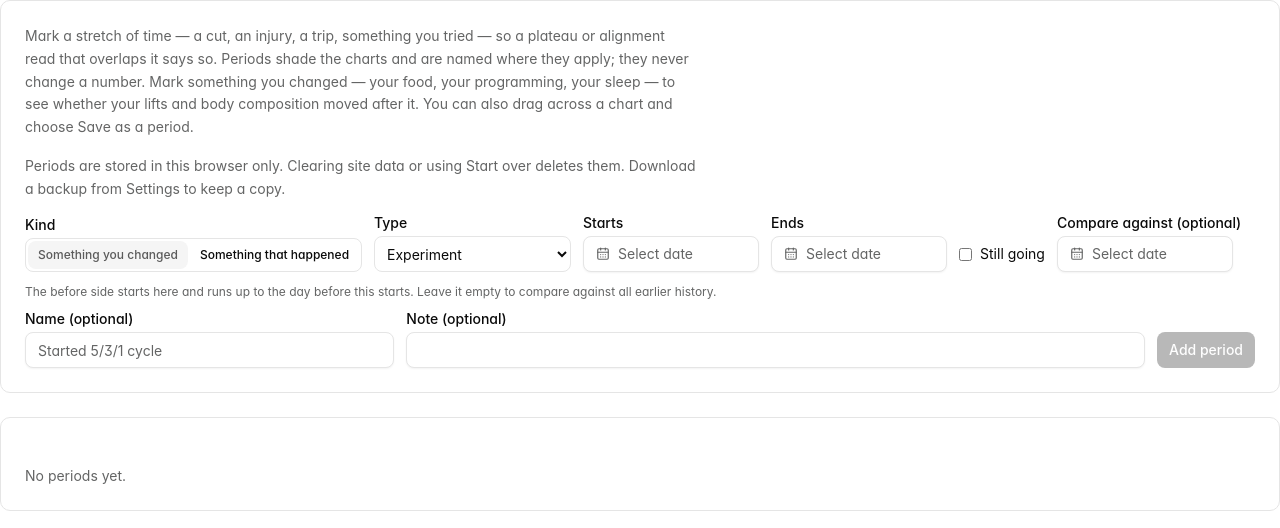
Test: PeriodsTab › the type picker › switches to something that happened, which has only injury and travel and no domains
Click the button "Something that happened": click(274, 255) top-left (190, 241), bottom-right (359, 269)
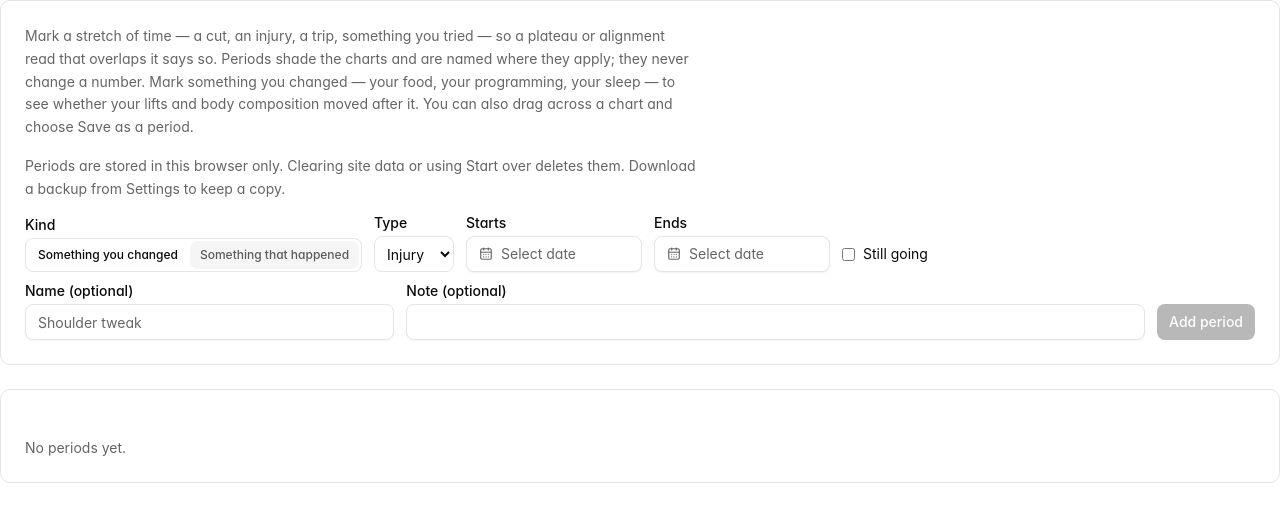
Check: the dropdown labelled "Type" shows "Injury", box top-left (374, 236), bottom-right (454, 272)
Click the button "Something you changed": click(108, 255) top-left (28, 241), bottom-right (188, 269)
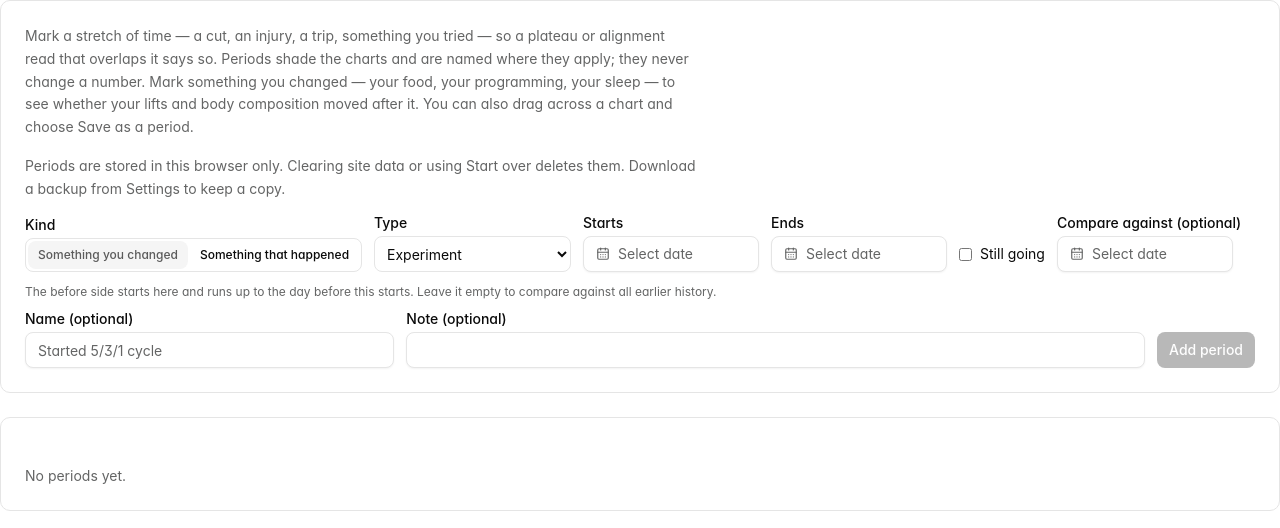
Check: the dropdown labelled "Type" shows "Experiment", box top-left (374, 236), bottom-right (571, 272)
